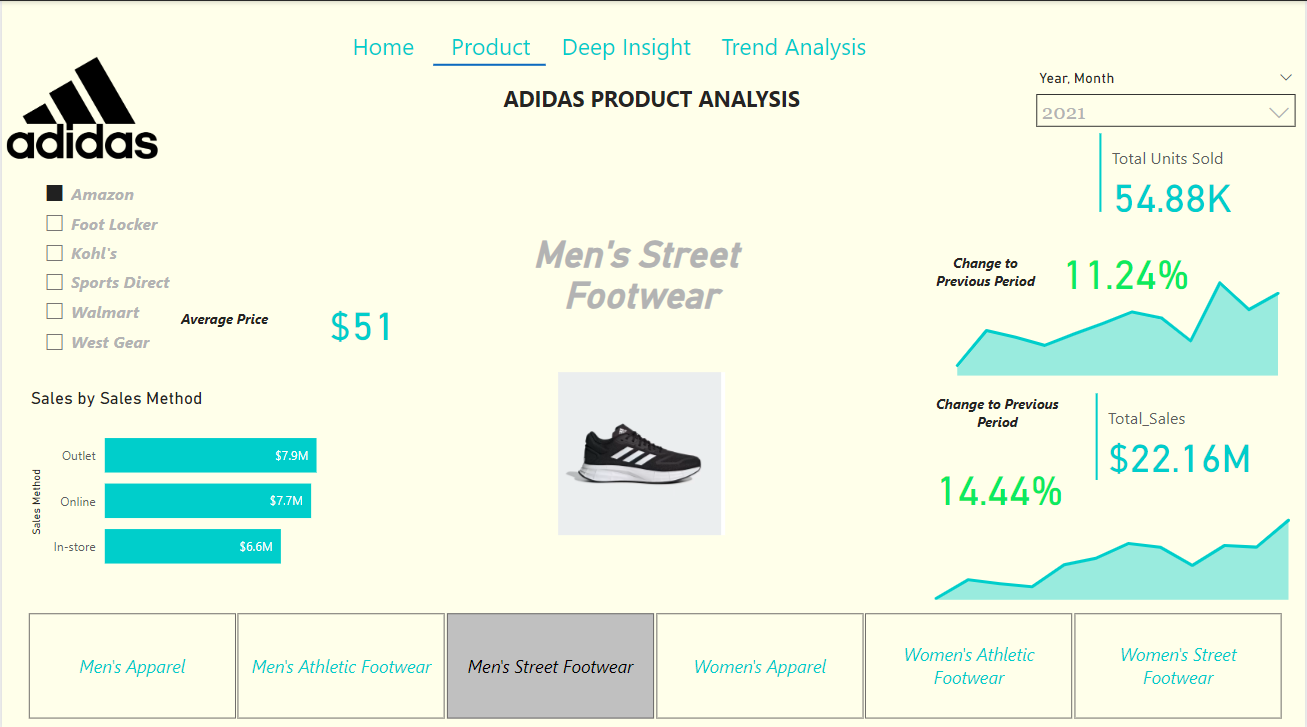

This screenshot's page, from the dashboard's own definition file:
{"tool":"powerbi","page":{"name":"Product Page","canvas":[1280,720],"ordinal":1},"visuals":[{"type":"actionButton","box":[321.2,23.3,105.3,39.6],"z":0,"group":"g3"},{"type":"image","box":[0,40.5,157.5,129.4],"z":0},{"type":"cardVisual","fields":{"Data":["Data Sales Adidas.Total Units Sold"]},"box":[1072.3,125.5,195.5,87.3],"z":0,"group":"g1"},{"type":"cardVisual","fields":{"Data":["Data Sales Adidas.Total_Sales"]},"box":[1068.9,380.5,210.5,95.6],"z":0,"group":"g2"},{"type":"actionButton","box":[426.5,23.3,105.3,39.6],"z":1000,"group":"g3"},{"type":"areaChart","fields":{"Y":["Data Sales Adidas.Total Units Sold"],"Category":["Calendar.Month"]},"box":[920.8,258.8,347.8,114],"z":1000,"group":"g1"},{"type":"simpleImageEBC4593F96F1425FB3D84C5BF02B5075","fields":{"imageURL":["Product.Image Url"]},"box":[541.1,360,173.2,169.9],"z":1000},{"type":"areaChart","fields":{"Y":["Data Sales Adidas.Total_Sales"],"Category":["Calendar.Month"]},"box":[900,487.6,381.2,105.8],"z":1000,"group":"g2"},{"type":"actionButton","box":[531.8,23.3,160.4,39.6],"z":2000,"group":"g3"},{"type":"cardVisual","fields":{"Data":["Data Sales Adidas.Total Units SoldMOM"]},"box":[1023.5,221,173.4,69.9],"z":2000,"group":"g1"},{"type":"cardVisual","fields":{"Data":["Data Sales Adidas.SalesMOM"]},"box":[899.5,432.8,196.4,75.2],"z":2000,"group":"g2"},{"type":"slicer","fields":{"Values":["Product.Product"]},"box":[0,593.5,1280,117.5],"z":2000},{"type":"actionButton","box":[692.1,23.3,170.2,39.6],"z":3000,"group":"g3"},{"type":"textbox","box":[906.5,243,117,48],"z":3000,"group":"g1"},{"type":"barChart","title":"Sales by Sales Method","fields":{"Category":["Data Sales Adidas.Sales Method"],"Y":["Data Sales Adidas.Total_Sales"]},"box":[23.6,379.1,330.8,198],"z":3000},{"type":"card","fields":{"Values":["Min(Product.Product)"]},"box":[462.4,203.6,329.6,122.6],"z":4000},{"type":"card","fields":{"Values":["Data Sales Adidas.Price/Unit"]},"box":[297,280.1,113.6,70.9],"z":5000},{"type":"textbox","box":[171,298.1,149.6,36],"z":6000},{"type":"slicer","fields":{"Values":["Data Sales Adidas.Retailer"]},"box":[30.4,169.9,140.6,190.1],"z":7000},{"type":"slicer","fields":{"Values":["Calendar.Year","Calendar.Month"]},"box":[1005.4,62.8,274.6,83.8],"z":8000},{"type":"group","id":"g1","title":"Group 1","box":[906.5,125.5,362.1,247.4],"z":9000},{"type":"textbox","box":[902.3,381.7,150.2,67.6],"z":9001,"group":"g2"},{"type":"group","id":"g2","title":"Group 2","box":[899.5,380.5,381.7,212.9],"z":10000},{"type":"shape","box":[423.6,40.8,110.5,44.2],"z":10006,"group":"g3"},{"type":"group","id":"g3","title":"Group 3","box":[321.2,23.3,541.1,61.7],"z":11000},{"type":"textbox","box":[381.1,75.6,517.8,50],"z":12000}]}

Visuals, with their boxes in screenshot pixels (x1, y1, x2, y2), scaled from the page's 1280x720 canvas onto the 1307x727 screenshot:
actionButton: x1=328, y1=24, x2=435, y2=64
image: x1=0, y1=41, x2=161, y2=172
cardVisual - Data Sales Adidas.Total Units Sold: x1=1095, y1=127, x2=1295, y2=215
cardVisual - Data Sales Adidas.Total_Sales: x1=1091, y1=384, x2=1306, y2=481
actionButton: x1=435, y1=24, x2=543, y2=64
areaChart - Data Sales Adidas.Total Units Sold x Calendar.Month: x1=940, y1=261, x2=1295, y2=376
simpleImageEBC4593F96F1425FB3D84C5BF02B5075 - Product.Image Url: x1=553, y1=364, x2=729, y2=535
areaChart - Data Sales Adidas.Total_Sales x Calendar.Month: x1=919, y1=492, x2=1306, y2=599
actionButton: x1=543, y1=24, x2=707, y2=64
cardVisual - Data Sales Adidas.Total Units SoldMOM: x1=1045, y1=223, x2=1222, y2=294
cardVisual - Data Sales Adidas.SalesMOM: x1=918, y1=437, x2=1119, y2=513
slicer - Product.Product: x1=0, y1=599, x2=1306, y2=718
actionButton: x1=707, y1=24, x2=880, y2=64
textbox: x1=926, y1=245, x2=1045, y2=294
"Sales by Sales Method" barChart: x1=24, y1=383, x2=362, y2=583
card - Min(Product.Product): x1=472, y1=206, x2=809, y2=329
card - Data Sales Adidas.Price/Unit: x1=303, y1=283, x2=419, y2=354
textbox: x1=175, y1=301, x2=327, y2=337
slicer - Data Sales Adidas.Retailer: x1=31, y1=172, x2=175, y2=364
slicer - Calendar.Year x Calendar.Month: x1=1027, y1=63, x2=1306, y2=148
"Group 1" group: x1=926, y1=127, x2=1295, y2=377
textbox: x1=921, y1=385, x2=1075, y2=454
"Group 2" group: x1=918, y1=384, x2=1306, y2=599
shape: x1=433, y1=41, x2=545, y2=86
"Group 3" group: x1=328, y1=24, x2=880, y2=86
textbox: x1=389, y1=76, x2=918, y2=127
